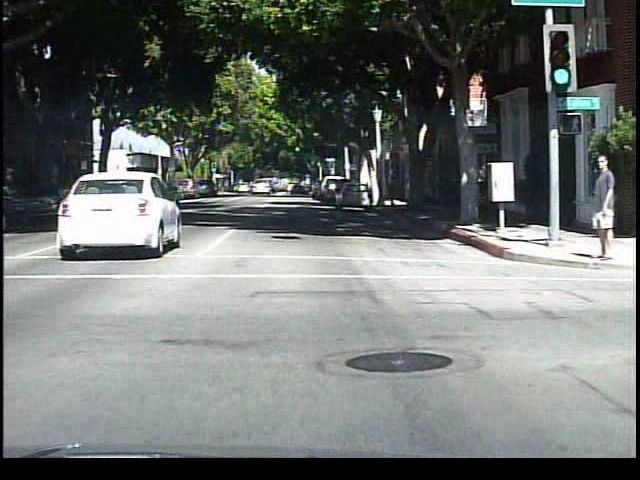person: (583, 149, 615, 264)
